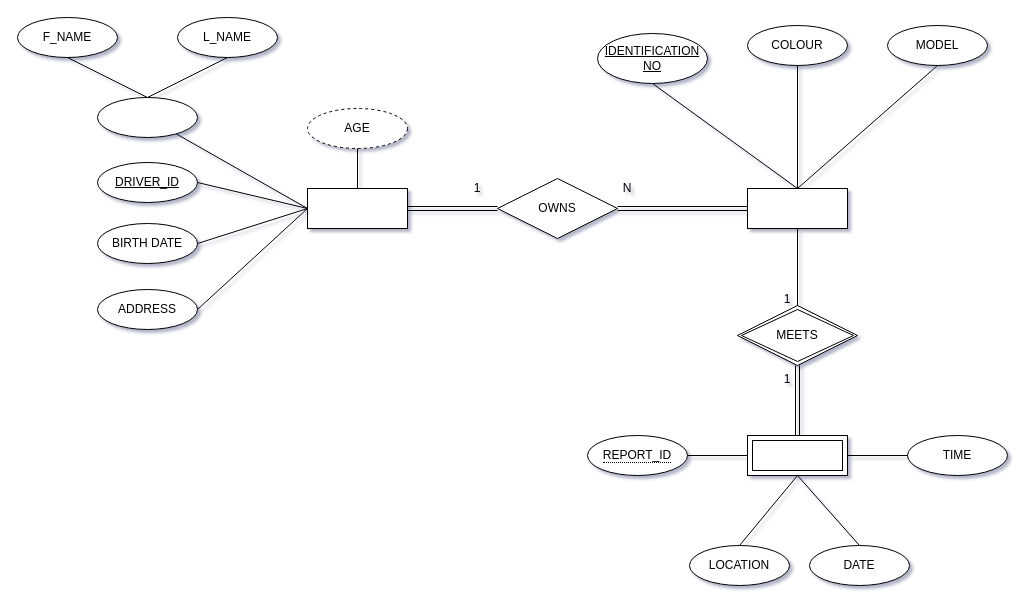
Some shapes in this 1031 by 609 pixel diagram are drawn without their labels. The shapes that lost their labels are listed below. From the top down, each one's centre as x and y in pixels, then its label:
At point 147,117: "NAME".
At point 357,208: "CUSTOMER".
At point 797,208: "CAR".
At point 797,455: "ACCIDENT RECORD".
